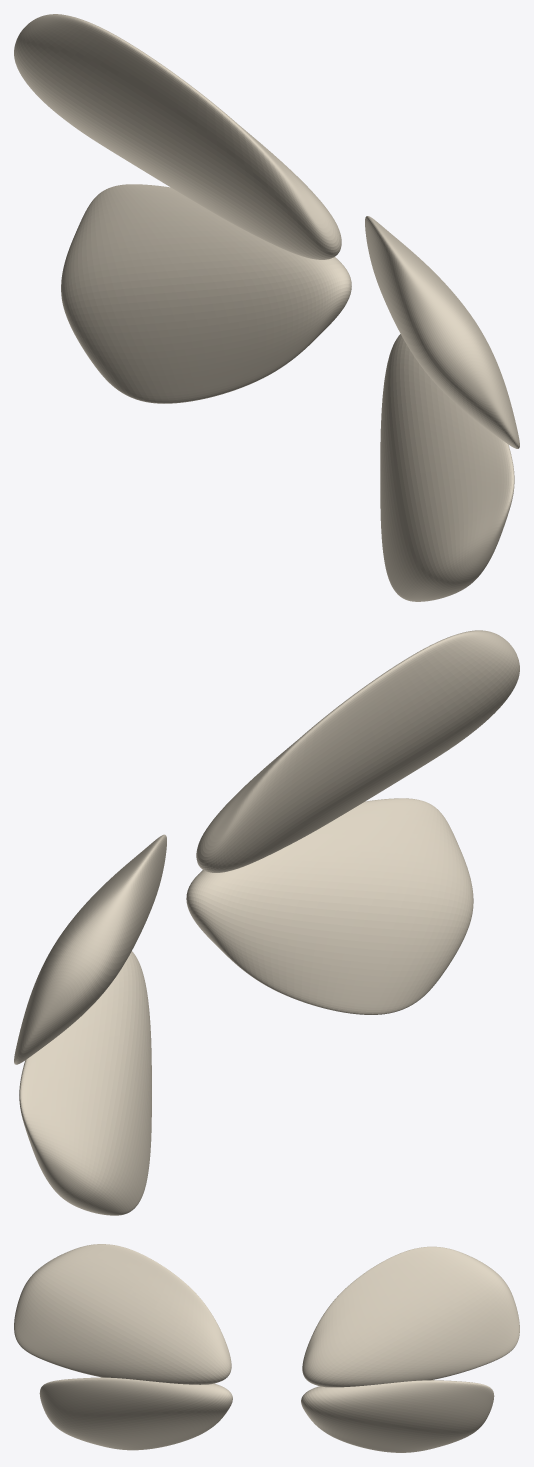
File: YorkWings.glb
3 renders of one model, top to bottom at view 1: azimuth 30°, elevation 25°; view 2: azimuth 150°, elevation 25°; view 3: azimuth 270°, elevation 25°, orthographic. The views are drawn at different scales.
Visible parts, largest first — view 1: YorkWings; view 2: YorkWings; view 3: YorkWings.
Part boxes in pixels (box(x1,y1,x2,y2)): YorkWings: box(14, 14, 519, 601); YorkWings: box(14, 630, 519, 1215); YorkWings: box(14, 1244, 519, 1452).
Size of the model in its own units: 3.8 by 7.73 by 17.65.
